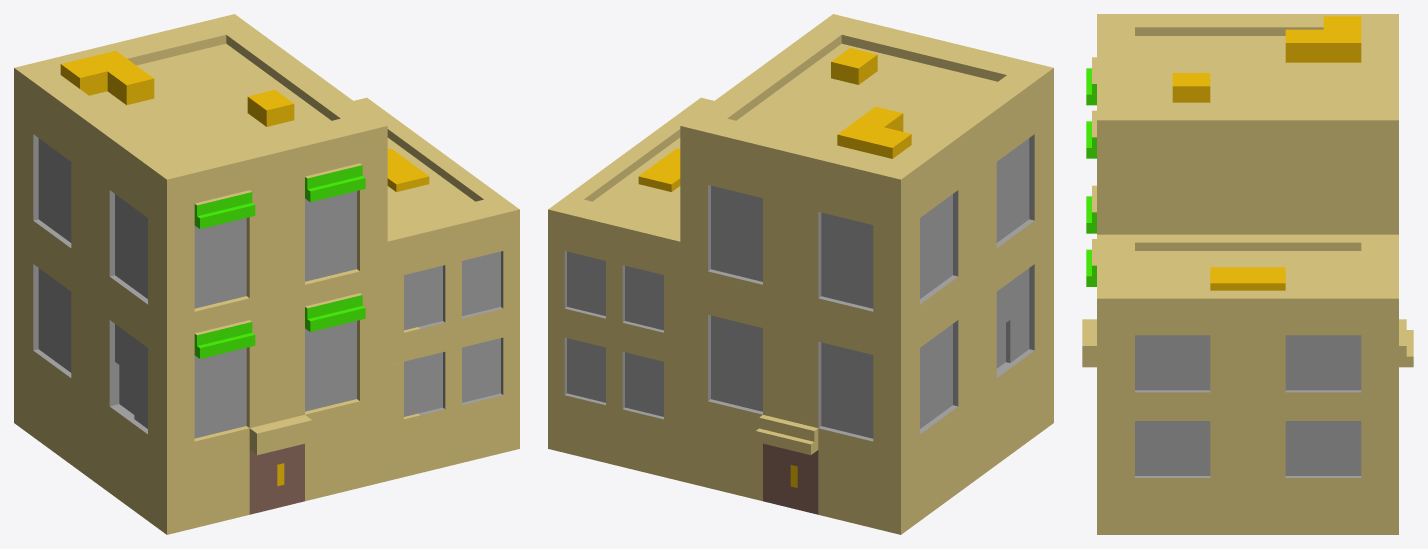
The model's file is blueLShapeTower.fbx.
3 views of the same model, side by side, from view 1: azimuth 30°, elevation 25°; view 2: azimuth 150°, elevation 25°; view 3: azimuth 270°, elevation 25° (orthographic).
Visible parts, largest first — view 1: tallerBuilding, shorterBuilding; view 2: tallerBuilding, shorterBuilding; view 3: shorterBuilding, tallerBuilding.
Part boxes in pixels (x1,y1,x2,y2): tallerBuilding: (14,14,387,534); shorterBuilding: (354,97,519,480); tallerBuilding: (680,14,1053,534); shorterBuilding: (548,97,713,480); shorterBuilding: (1097,234,1398,534); tallerBuilding: (1082,14,1413,367).
Size of the model in its own units: 15.99 by 15.86 by 13.16.
